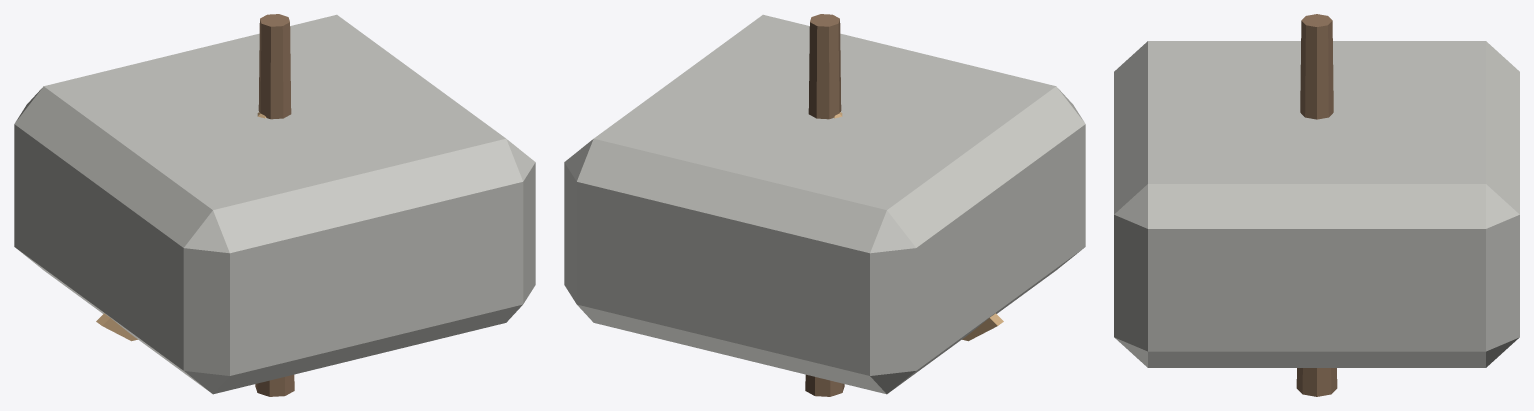
The model's file is road_signpost.glb.
The picture shows the model from 3 angles, left to right: view 1: azimuth 30°, elevation 25°; view 2: azimuth 150°, elevation 25°; view 3: azimuth 270°, elevation 25°; orthographic projection.
Parts seen in each view (by area): view 1: road_signpost_0, road_signpost_1; view 2: road_signpost_0, road_signpost_1; view 3: road_signpost_0, road_signpost_1.
Part boxes in pixels (left/top/right/bottom): road_signpost_0: left=14, top=14, right=535, bottom=394; road_signpost_1: left=255, top=14, right=294, bottom=396; road_signpost_0: left=564, top=14, right=1085, bottom=394; road_signpost_1: left=805, top=14, right=844, bottom=396; road_signpost_0: left=1114, top=41, right=1519, bottom=367; road_signpost_1: left=1296, top=14, right=1337, bottom=396.
Size of the model in its own units: 2 by 2 by 2.
